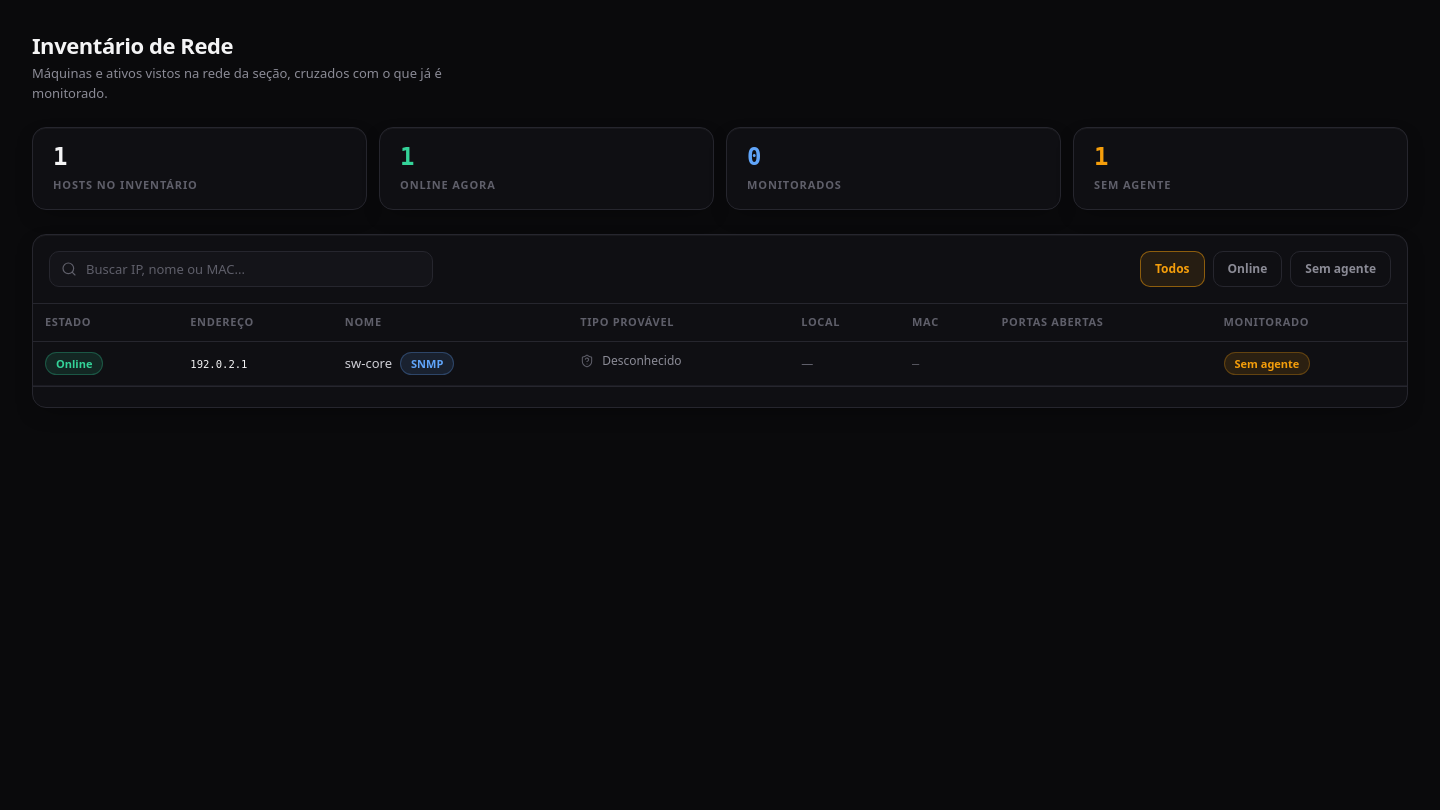
Test: NetworkView — aba Interfaces › host com SNMP mostra cabeçalho e tabela com bps formatado e travessão no nulo
expect the text "SNMP" is shown: met, box [400,352,454,375]
Click the button named "Ver detalhe de 192.0.2.1": click(219, 365) [190,357,248,373]
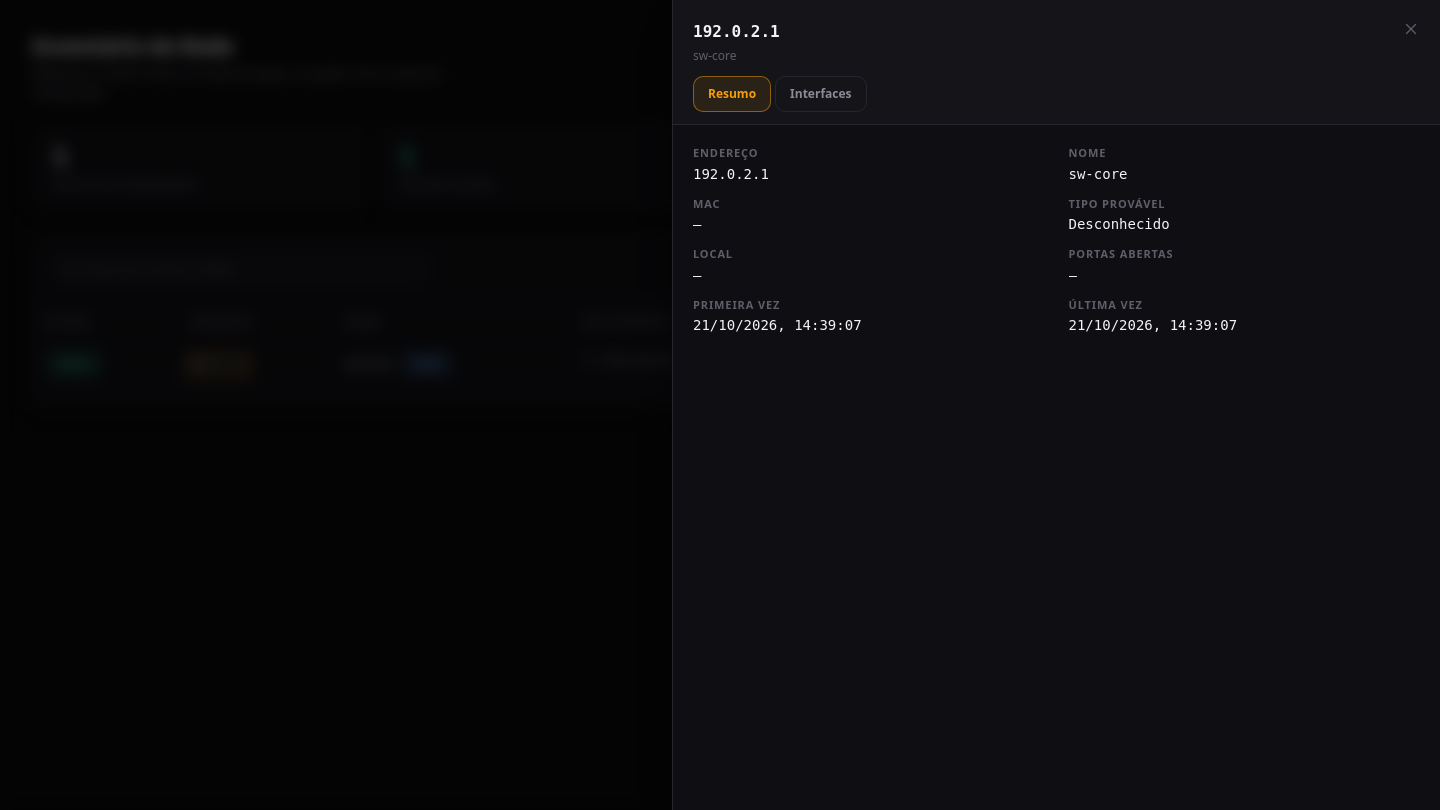
Click the tab "Interfaces": click(821, 94) [775,76,866,112]
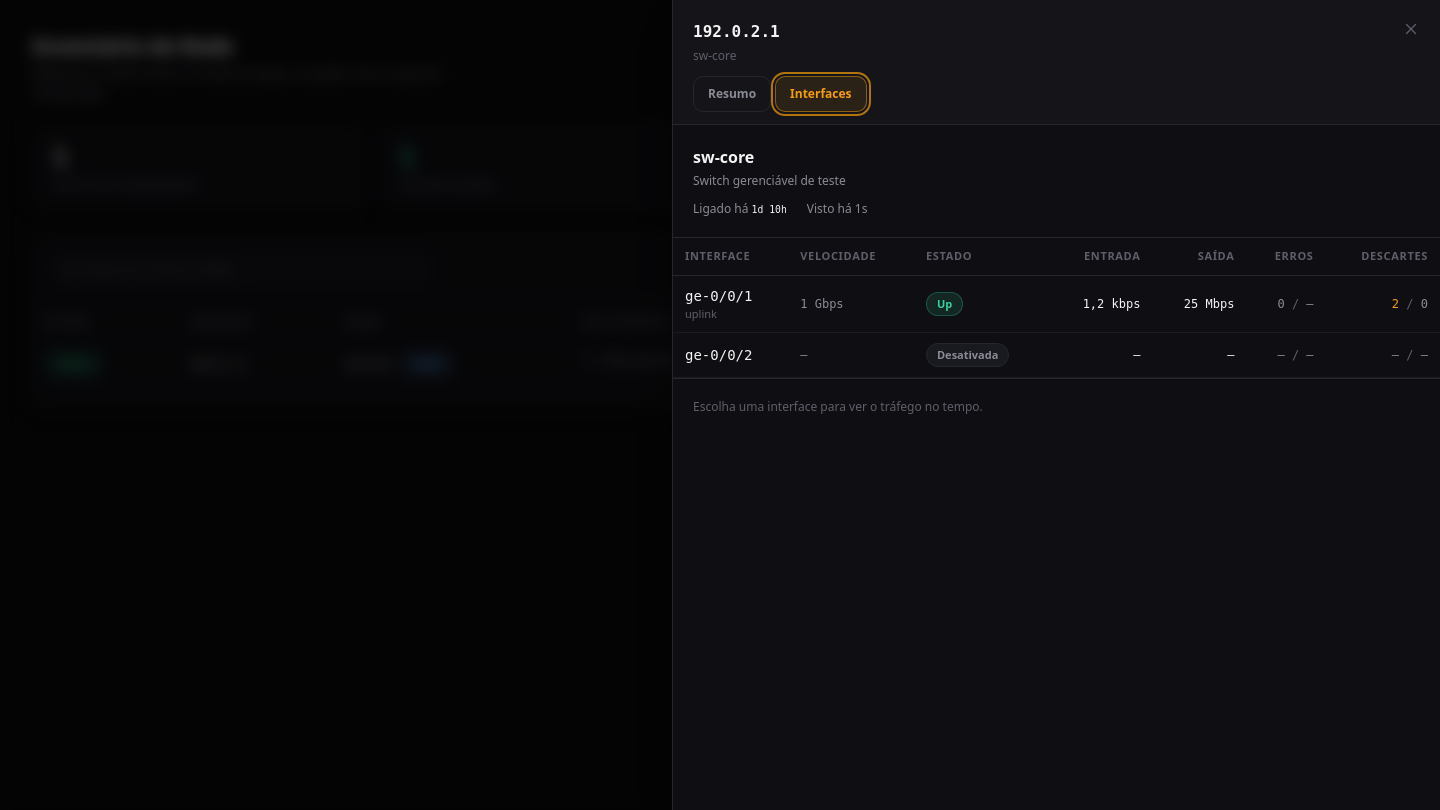
expect the heading with test id "snmp-sys-name" reads "sw-core": met, box [693,146,754,168]
expect the text with test id "snmp-sys-descr" reads "Switch gerenciável de teste": met, box [693,172,846,189]
expect the text with test id "snmp-uptime" reads "1d 10h": met, box [752,204,787,215]
